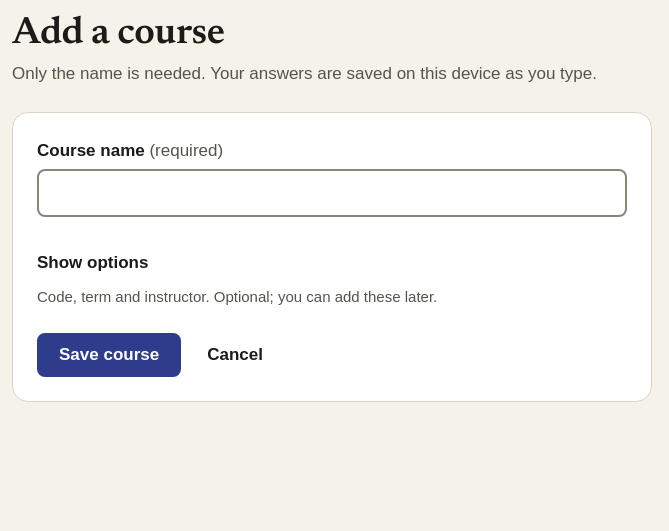
Test: CourseForm › keeps input and offers retry when the save fails (offline)
This screenshot has width=669, height=531.
Type "Psych 210" into the field labelled "Course name (required)" at coordinates (332, 193), box [37,169,627,217]
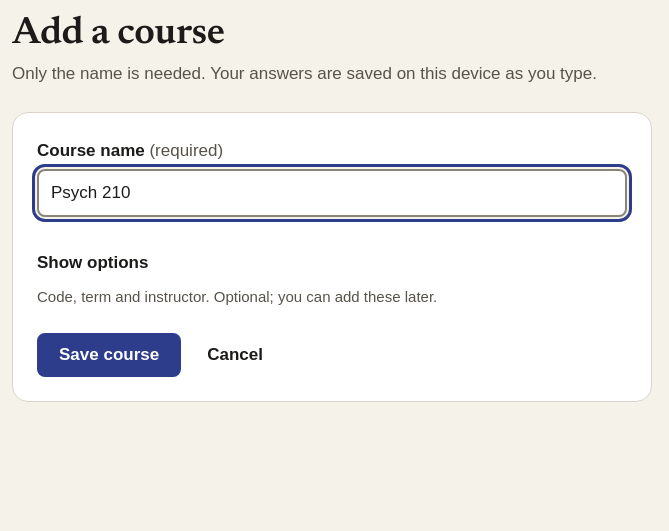
Click the button "Save course" at coordinates (109, 355), box [37,333,181,377]
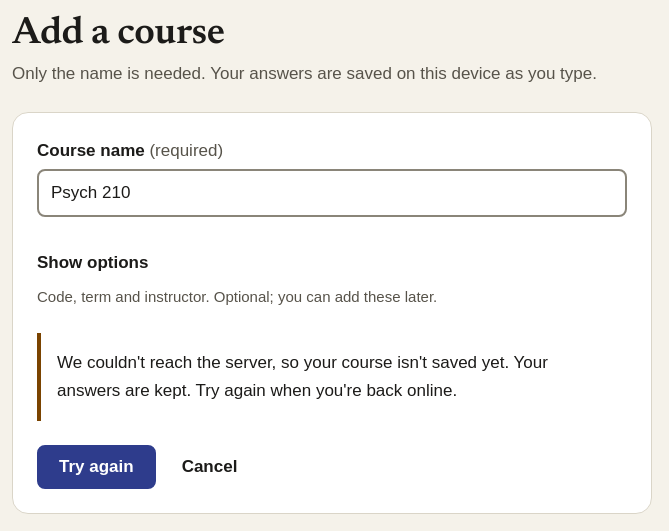
Check: the button "Try again" is enabled, box [37,445,156,489]
Check: the message shows "isn't saved yet", box [57,353,548,400]
